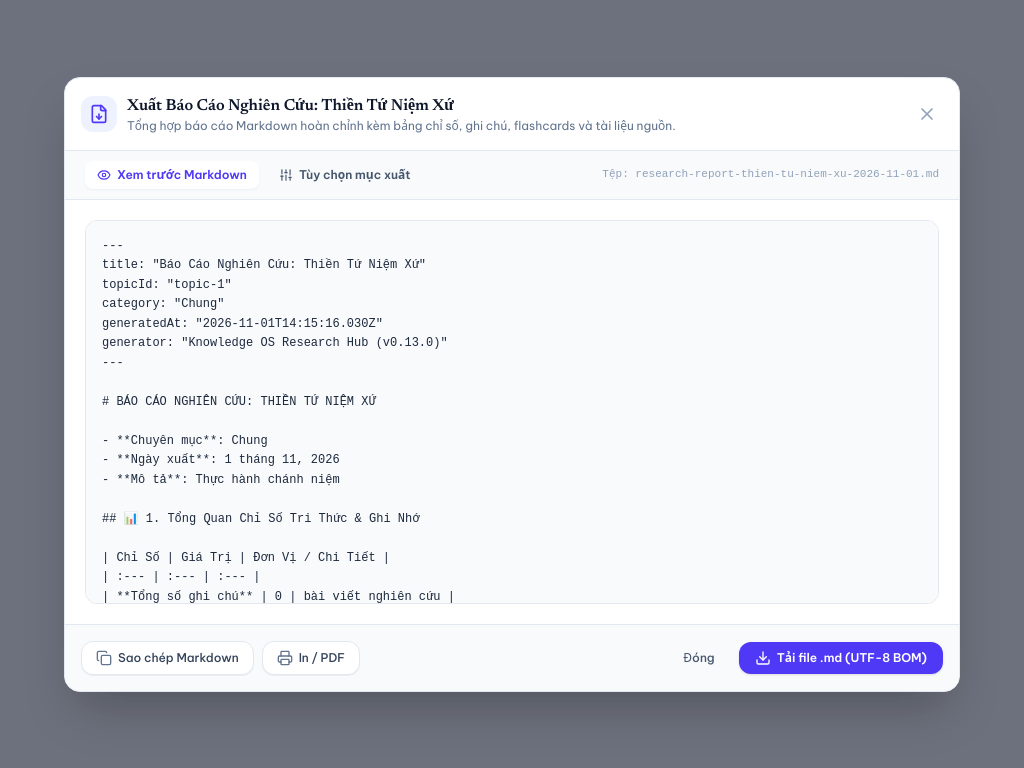
Test: ExportReportModal Component › renders preview and switches to config view
Expected: the element with test id "export-preview-panel" is shown, [85,220,939,604]
// Switch to config view
Click the button with test id "tab-config" at [345, 174], box [267,160,422,188]
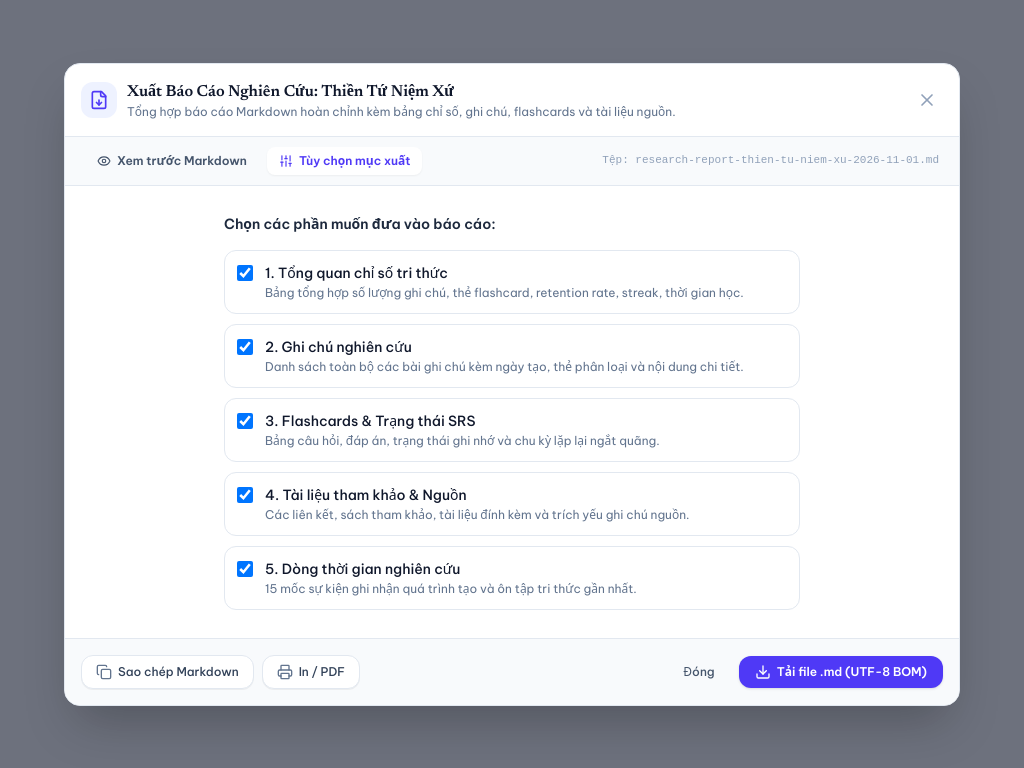
Now the element with test id "export-config-panel" is shown, box [224,206,800,618]
Now the checkbox with test id "checkbox-overview" is shown, box [237,264,253,280]
Now the checkbox with test id "checkbox-notes" is shown, box [237,338,253,354]
